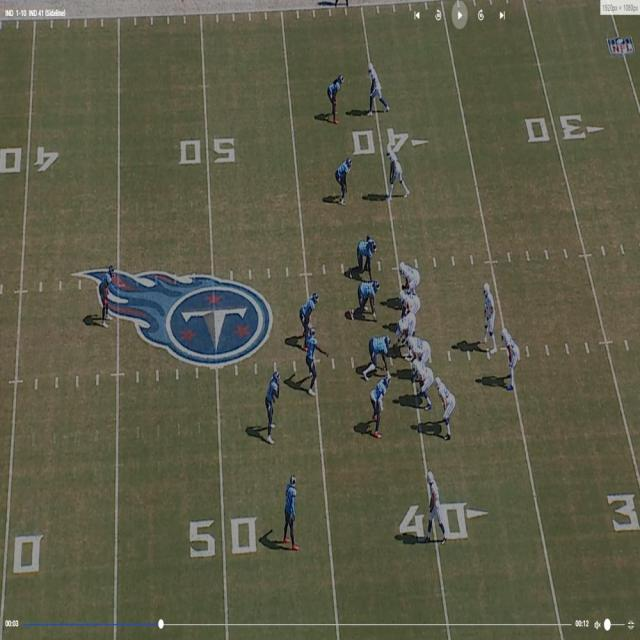center: (396, 316, 412, 345)
db: (372, 371, 388, 434), (267, 373, 281, 439), (286, 467, 296, 545), (99, 269, 113, 324), (329, 76, 343, 123), (341, 160, 354, 202)
lb: (306, 328, 317, 390), (304, 292, 316, 329)
qb: (483, 280, 494, 343)
skill: (423, 471, 445, 538), (369, 66, 389, 116), (388, 142, 406, 192), (503, 326, 517, 386), (440, 378, 453, 432)
